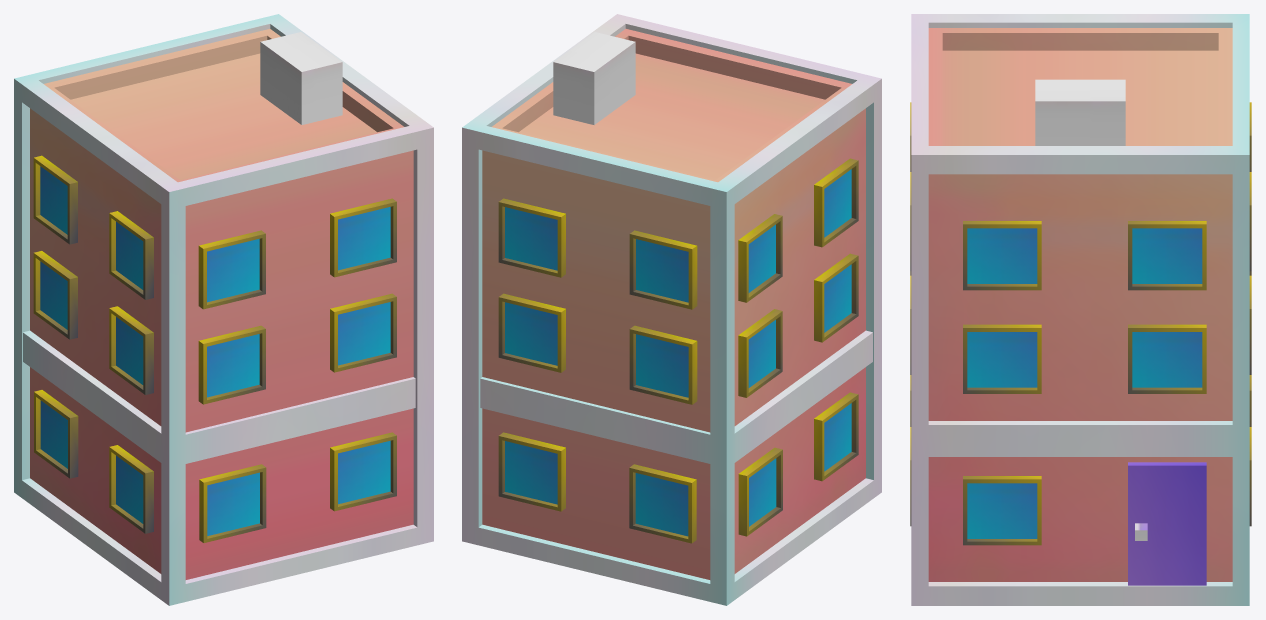
Rendered from House_6.glb.
3 views of the same model, side by side, from view 1: azimuth 30°, elevation 25°; view 2: azimuth 150°, elevation 25°; view 3: azimuth 270°, elevation 25° (orthographic). The views are drawn at different scales.
Parts seen in each view (by area): view 1: House_6; view 2: House_6; view 3: House_6.
Boxes of the visible parts, x1=… form: House_6: x1=14, y1=14, x2=433, y2=605; House_6: x1=462, y1=14, x2=881, y2=605; House_6: x1=910, y1=14, x2=1251, y2=605.
Size of the model in its own units: 806 by 1244 by 792.
1 material, 1 textured.
